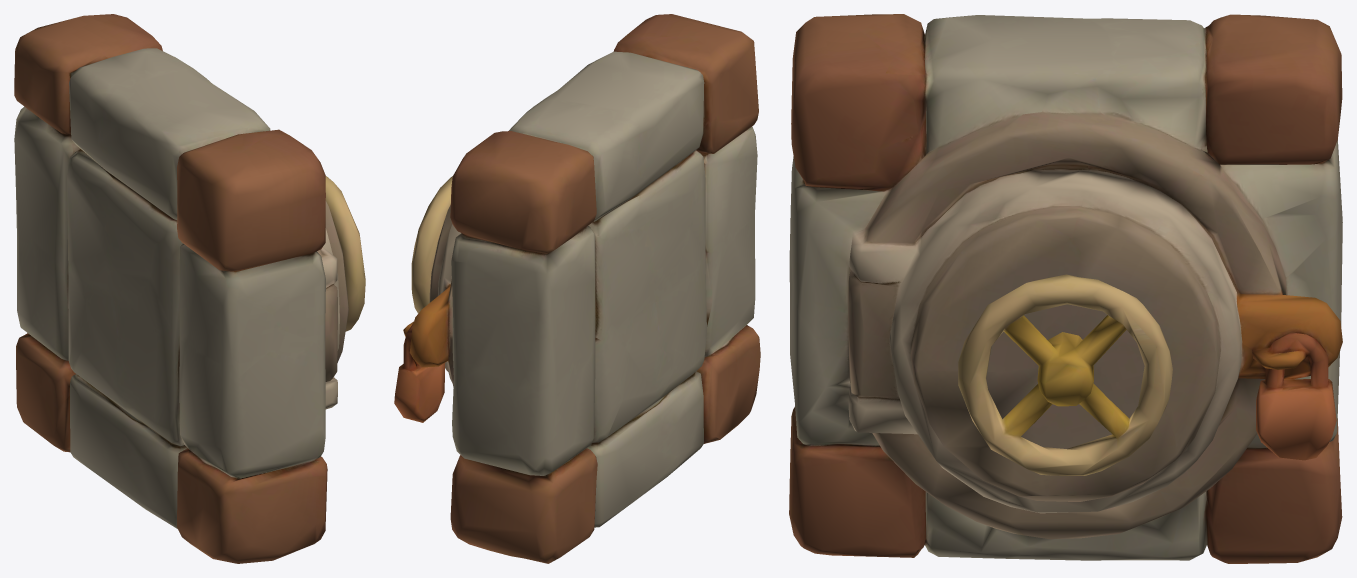
File: vault-door.glb
3 renders of one model, left to right at view 1: azimuth 30°, elevation 25°; view 2: azimuth 150°, elevation 25°; view 3: azimuth 270°, elevation 25°, orthographic. The views are drawn at different scales.
Parts seen in each view (by area): view 1: tripo_node_2db2fff1-a085-4107-82bf-c561bb79c8f6; view 2: tripo_node_2db2fff1-a085-4107-82bf-c561bb79c8f6; view 3: tripo_node_2db2fff1-a085-4107-82bf-c561bb79c8f6.
Boxes of the visible parts, <box> form: tripo_node_2db2fff1-a085-4107-82bf-c561bb79c8f6: <box>14,14,365,563</box>; tripo_node_2db2fff1-a085-4107-82bf-c561bb79c8f6: <box>394,14,760,563</box>; tripo_node_2db2fff1-a085-4107-82bf-c561bb79c8f6: <box>789,14,1342,563</box>.
Size of the model in its own units: 0.5648 by 1 by 0.9972.
Materials: 1 (1 with a texture image).
